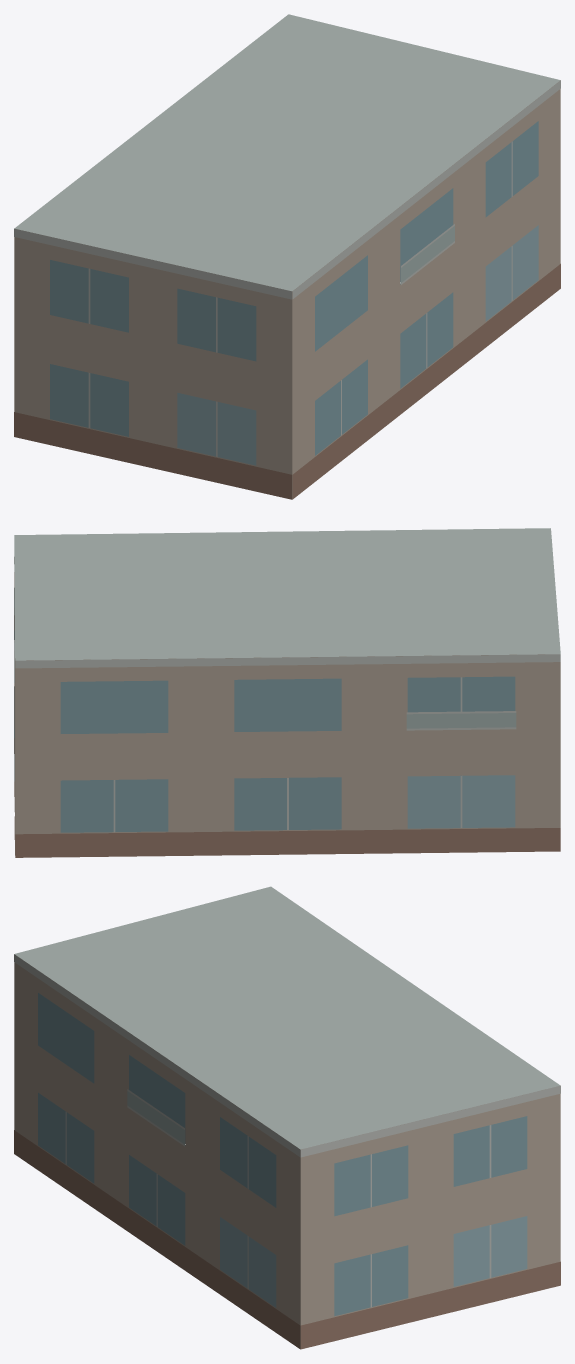
File: survey-upis-32720230.glb
The picture shows the model from 3 angles, top to bottom: view 1: azimuth 30°, elevation 25°; view 2: azimuth 150°, elevation 25°; view 3: azimuth 270°, elevation 25°; orthographic projection. The views are drawn at different scales.
Visible parts, largest first — view 1: survey-upis-32720230.tmp; view 2: survey-upis-32720230.tmp; view 3: survey-upis-32720230.tmp.
Boxes of the visible parts, box(x1,y1,x2,y2) form: survey-upis-32720230.tmp: box(14, 14, 560, 499); survey-upis-32720230.tmp: box(14, 528, 560, 857); survey-upis-32720230.tmp: box(14, 886, 560, 1349).
Size of the model in its own units: 17.23 by 6.1 by 15.13.
